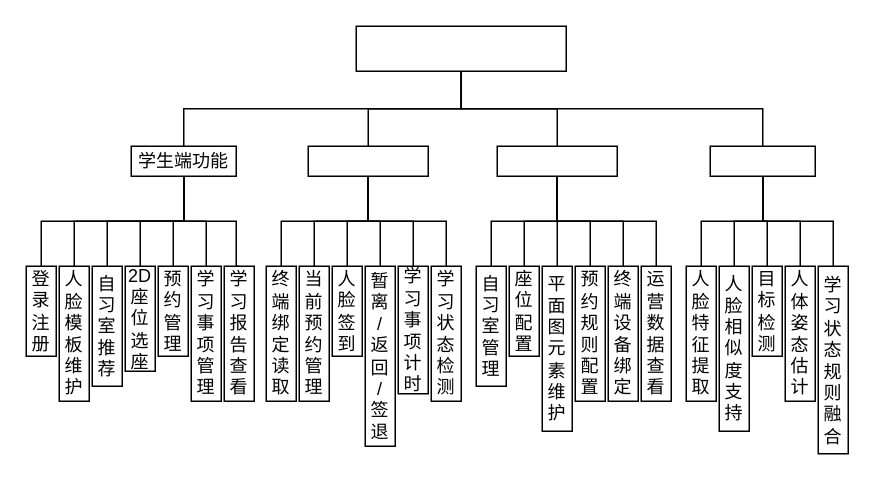
The diagram is 875 pixels wide and 480 high, and some of its shapes have lost their labels. The shapes that lost their labels are listed below. From the top down, each one's box as (x1, y1, x2, y2) in pixels, then its label:
(355, 25, 566, 71): 智能自习室预约管理系统
(307, 145, 428, 176): 座位终端功能
(496, 145, 617, 176): 管理员端功能
(709, 145, 815, 176): AI服务功能
